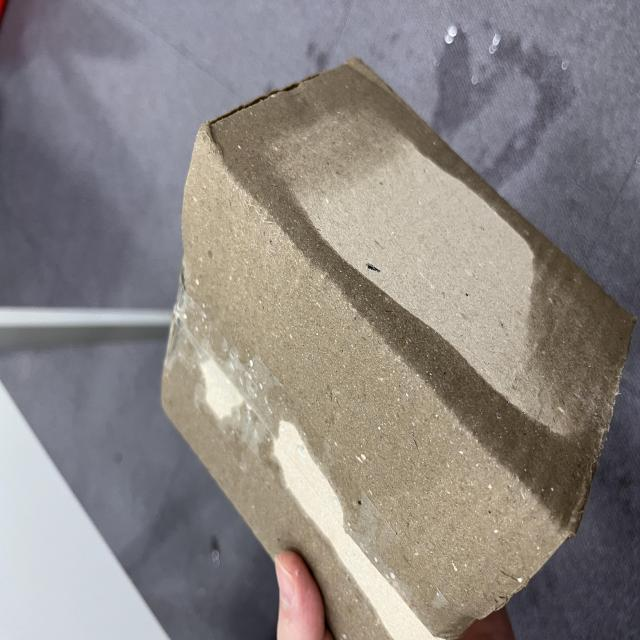wet: (12, 206, 443, 640)
